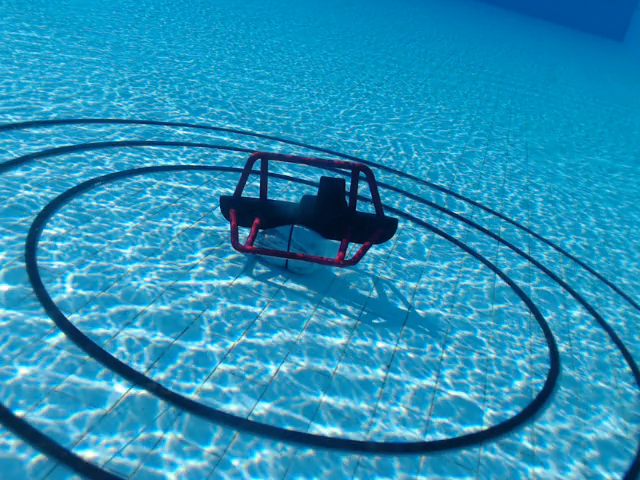submarine: (219, 150, 399, 268)
